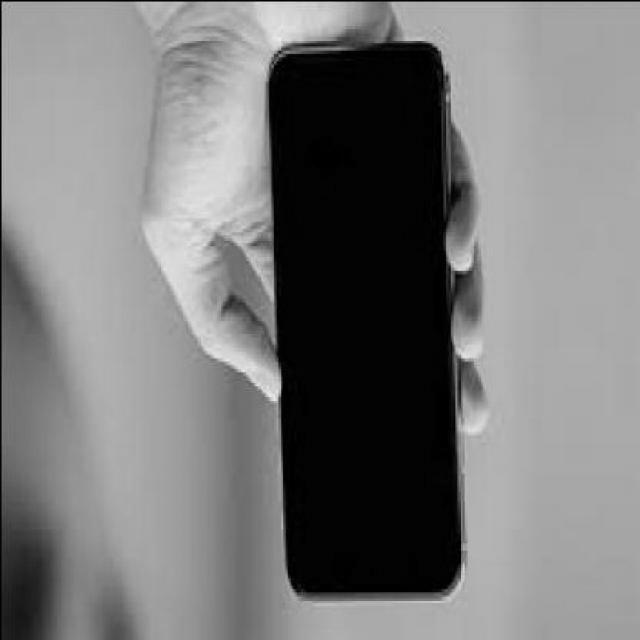fake: (268, 38, 466, 598)
